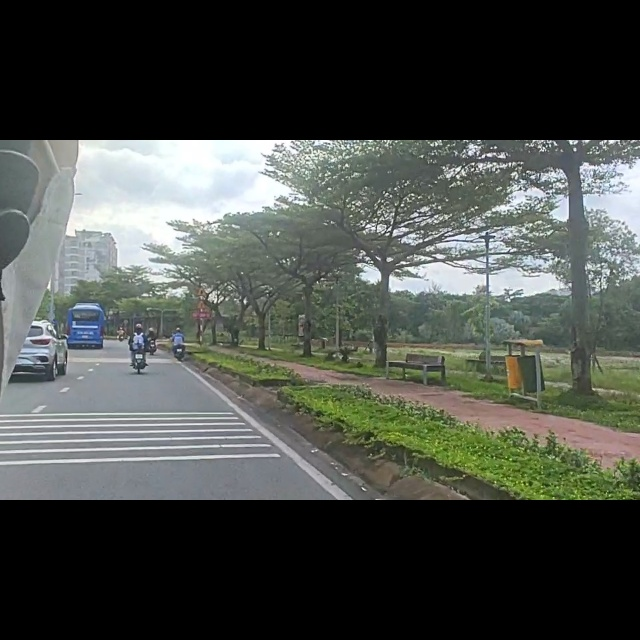bien_nguy_hiem: (195, 283, 210, 303)
